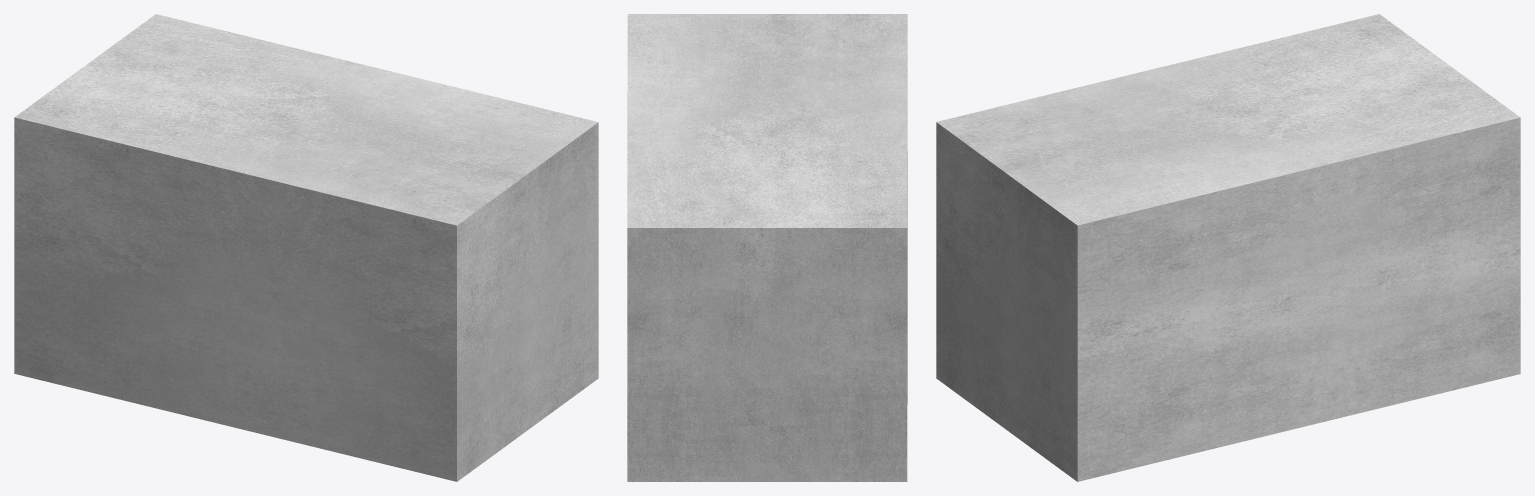
The model's file is MUNTREFArtesVisuales-OLD.gltf.
3 views of the same model, side by side, from view 1: azimuth 30°, elevation 25°; view 2: azimuth 150°, elevation 25°; view 3: azimuth 270°, elevation 25° (orthographic).
Parts seen in each view (by area): view 1: MUNTREFArtesVisuales; view 2: MUNTREFArtesVisuales; view 3: MUNTREFArtesVisuales.
Part boxes in pixels (left/top/right/bottom): MUNTREFArtesVisuales: left=14, top=14, right=598, bottom=481; MUNTREFArtesVisuales: left=627, top=14, right=907, bottom=481; MUNTREFArtesVisuales: left=936, top=14, right=1520, bottom=481.
Bounding box in the file's own units: 1.28 × 0.7224 × 1.49.
Materials: 1 (1 with a texture image).
